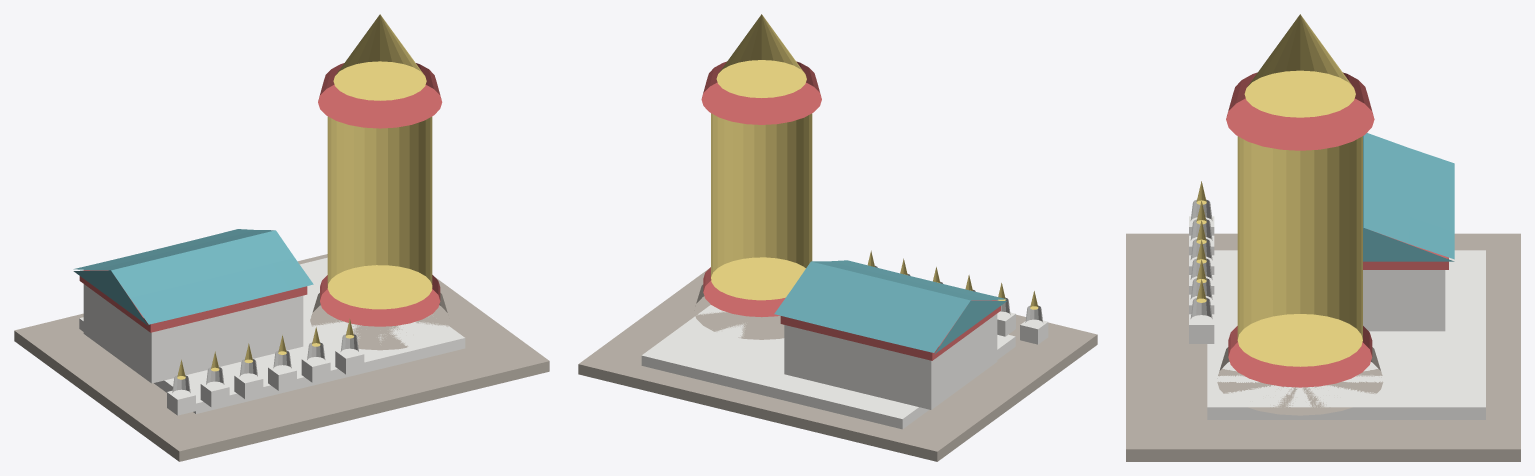
Rendered from lm_91_samten_hills_dalat_dran_kinh_luan_37m_stupa_complex.glb.
3 views of the same model, side by side, from view 1: azimuth 30°, elevation 25°; view 2: azimuth 150°, elevation 25°; view 3: azimuth 270°, elevation 25° (orthographic). The views are drawn at different scales.
Parts seen in each view (by area): view 1: lm_91_samten_hills_dalat_dran_kinh_luan_37m_stupa_complex; view 2: lm_91_samten_hills_dalat_dran_kinh_luan_37m_stupa_complex; view 3: lm_91_samten_hills_dalat_dran_kinh_luan_37m_stupa_complex.
Boxes of the visible parts, box(x1,y1,x2,y2) form: lm_91_samten_hills_dalat_dran_kinh_luan_37m_stupa_complex: box(14, 14, 549, 461); lm_91_samten_hills_dalat_dran_kinh_luan_37m_stupa_complex: box(578, 14, 1097, 461); lm_91_samten_hills_dalat_dran_kinh_luan_37m_stupa_complex: box(1126, 14, 1520, 461).
Size of the model in its own units: 44 by 37.22 by 34.
